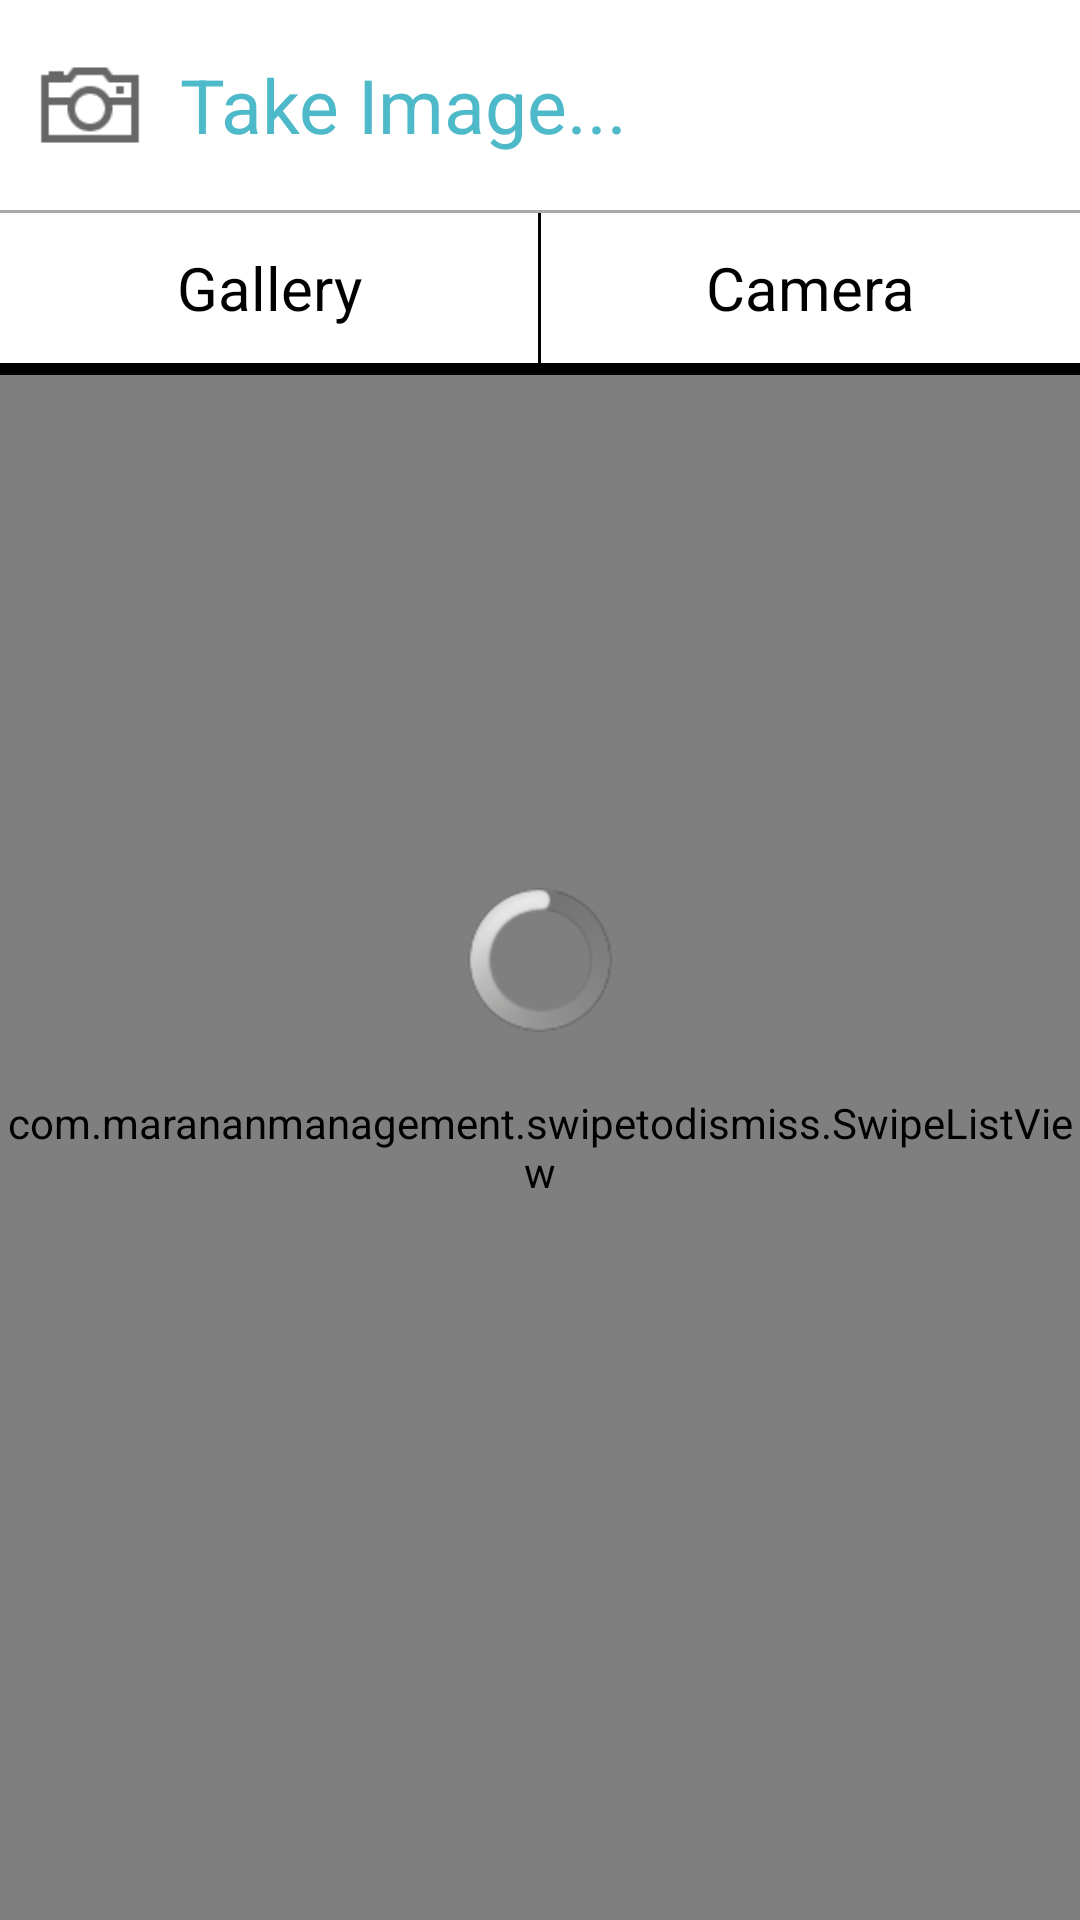

Where icons sit on this 1080 × 1920 app screen, as (x1, y1, x2, y2):
camera: (41, 67, 139, 143)
